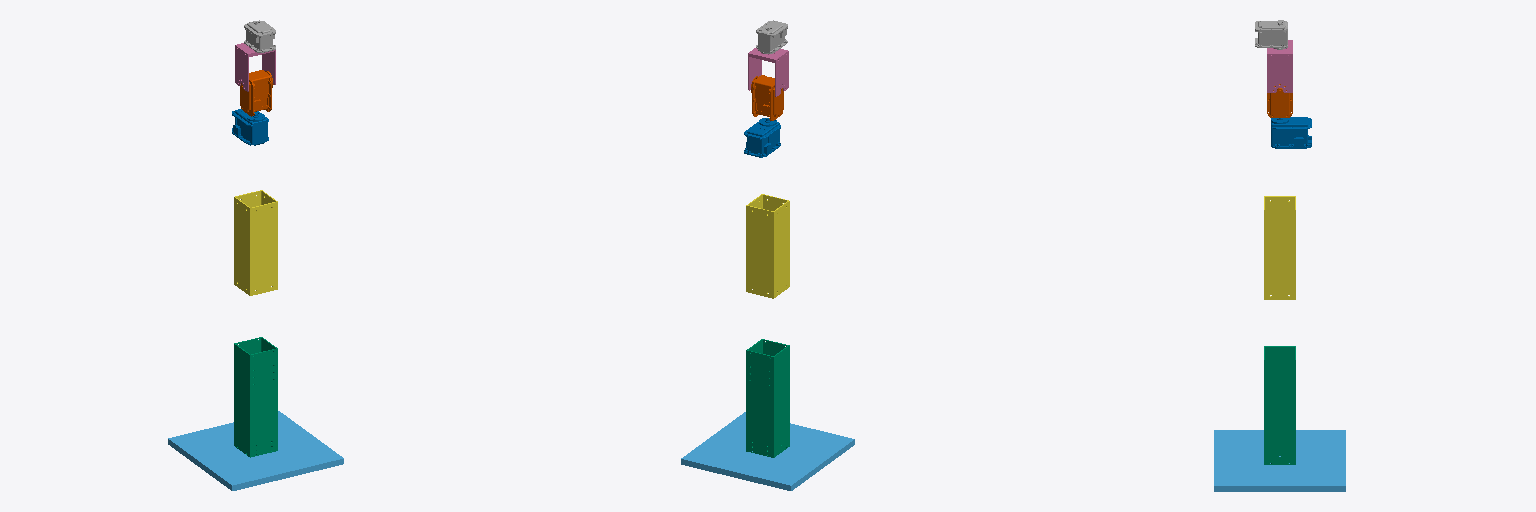
robot.urdf — proarm:

<robot name="proarm">

  <link name="world"/>
    <joint name="fixed" type="fixed">
    <parent link="world"/>
    <child link="base_link"/>
    <origin  xyz="0 0.0 0.00"  rpy="0.0 0 0" />
  </joint>

  <link name="base_link">
  <inertial>
      <origin  xyz="0.0 0.0 0.0"  rpy="0 0 0" />
      <mass  value="0.5" />
      <inertia ixx="0.01666" ixy="0.0" ixz="0.00"  iyy="0.01666"  iyz="0.0" izz="0.01666" />
    </inertial>
    <visual>
      <origin rpy="0 0 0" xyz="0 0 0.0"/>
      <geometry>
        <box size="0.2 0.2 0.01"/>
      </geometry>
      <material name="clear_gray"/>
    </visual>
    <collision>
      <origin rpy="0 0 0" xyz="0 0 0.0"/>
      <geometry>
        <box size="0.2 0.2 .01"/>
      </geometry>
    </collision>
  </link>
  
 

   <joint name="joint1" type="revolute">
    <parent link="base_link"/>
    <child link="link_pilar1"/>
     <origin  xyz="0.0 0.0 0.18"  rpy="0.0 3.14159 0.0" />
    <axis  xyz="0 0 1" />
    <limit  lower="-3.15159" upper="3.14159" effort="2.0"  velocity="2.57" />
  </joint>

  
 <link  name="link_pilar1">
   
    <visual>
      <origin  xyz="0.0 0.0 0.0"  rpy="0 0 0" />
      <geometry>     
        <mesh filename="package://ed_pmov/meshes/dokku_arm/50x50x180_scaled.stl" />
      </geometry>   
       <material name="white"/>
    </visual>
  
  </link>

   <joint name="joint2" type="revolute">
    <parent link="link_pilar1"/>
    <child link="link_pilar2"/>
     <origin  xyz="-0.0 -0.0 -0.036"  rpy="3.14159 0.0 3.14159" />
     <axis  xyz="0 1 0" />
     <limit  lower="-2.32" upper="2.32" effort="10"  velocity="4.57" />
  </joint>



 <link  name="link_pilar2">
   
    <visual>
      <origin  xyz=" 0.0 0.0 0.0"  rpy="0.0 0.0 0.0" />
      <geometry>
        <mesh filename="package://ed_pmov/meshes/dokku_arm/50x50x150_scaled.stl" />
      </geometry>
       <material name="black"/>
    </visual>

  </link>





   <joint name="joint3" type="revolute">
    <parent link="link_pilar2"/>
    <child link="link_motor_mx642"/>
     <origin  xyz="0.0 0.0 0.247"  rpy="0.0 0.0  3.14159" />
     <axis  xyz="0 1 0" />
    <limit  lower="-2.32" upper="2.32" effort="10"  velocity="4.57" />
  </joint> 



 <link  name="link_motor_mx642">
 
    <visual>
      <origin  xyz="0 0 0.0"  rpy=" 0 0 0" />
      <geometry>
        <mesh filename="package://ed_pmov/meshes/dokku_arm/mx641_scaled.stl"/>
      </geometry>
       <material name="black"/>
    </visual>

  </link>

   <joint name="joint4" type="continuous">
    <parent link="link_motor_mx642"/>
    <child link="link_motor_mx281"/>
     <origin  xyz="0.00 0.0 0.167"  rpy="1.57079 0.0 -1.57079 " />
     <axis  xyz="0 1 0" />
    <limit  lower="-3.14159" upper="3.1459" effort="10"  velocity="4.57" />
  </joint>

 <link  name="link_motor_mx281">
 
    <visual>
      <origin  xyz="0 0 0.0"  rpy="0 0 0" />
      <geometry>
        <mesh filename="package://ed_pmov/meshes/dokku_arm/mx64_scaled.stl"/>
      </geometry>
       <material name="black"/>
    </visual>

  </link>

 <joint name="joint5" type="revolute">
    <parent link="link_motor_mx281"/>
    <child link="link_bracket_f5l"/>
     <origin  xyz="0.0 0.0 0.0"  rpy="1.570796 1.57079 3.14159" />
     <axis  xyz="-1 0 0" />
    <limit  lower="-1.82561" upper="1.82561" effort="10.0"  velocity="3.57" />
  </joint>

 <link  name="link_bracket_f5l">
 
    <visual>
      <origin  xyz="-0.0 -0.0 -0.0"  rpy="0.0 0 0" />
      <geometry>
        <mesh filename="package://ed_pmov/meshes/dokku_arm/fr05l_scaled_translated.stl"/>
      </geometry>
       <material name="black"/>
    </visual>

  </link>

   <joint name="joint6" type="revolute">
    <parent link="link_bracket_f5l"/>
    <child link="link_motor_mx282"/>
     <origin  xyz="0.0 0.0 0.084"  rpy="-3.1459 0 0" />
     <axis  xyz="0 0 1" />
    <limit  lower="-3.14159" upper="3.1459" effort="10"  velocity="5.57" />
  </joint>

 <link  name="link_motor_mx282">
  
    <visual>
      <origin  xyz="0.00 0.0 0.0"  rpy="0 0 0" />
      <geometry>
        <mesh filename="package://ed_pmov/meshes/dokku_arm/mx28_scaled.stl" />
      </geometry>
       <material name="black"/>
    </visual>
   
  </link>
 
</robot>

--- Facts derived from the render (not from the file) ---
The picture shows the robot from 3 angles, left to right: view 1: azimuth 30°, elevation 25°; view 2: azimuth 150°, elevation 25°; view 3: azimuth 270°, elevation 25°; orthographic projection.
Robot: proarm — 8 links, 7 joints (5 revolute, 1 continuous, 1 fixed); root link world; default pose: all joints at 0.
Links seen in each view (by area): view 1: base_link, link_pilar1, link_pilar2, link_motor_mx281, link_motor_mx642, link_bracket_f5l, link_motor_mx282; view 2: base_link, link_pilar1, link_pilar2, link_motor_mx281, link_motor_mx642, link_bracket_f5l, link_motor_mx282; view 3: base_link, link_pilar1, link_pilar2, link_motor_mx642, link_bracket_f5l, link_motor_mx282, link_motor_mx281.
Link boxes in pixels (left/top/right/bottom): base_link: left=168, top=411, right=343, bottom=490; link_pilar1: left=234, top=337, right=277, bottom=457; link_pilar2: left=234, top=190, right=277, bottom=295; link_motor_mx281: left=240, top=70, right=273, bottom=116; link_motor_mx642: left=232, top=109, right=268, bottom=145; link_bracket_f5l: left=235, top=43, right=275, bottom=91; link_motor_mx282: left=244, top=20, right=275, bottom=52; base_link: left=681, top=412, right=854, bottom=490; link_pilar1: left=746, top=339, right=789, bottom=457; link_pilar2: left=746, top=194, right=789, bottom=298; link_motor_mx281: left=751, top=75, right=783, bottom=120; link_motor_mx642: left=744, top=118, right=780, bottom=157; link_bracket_f5l: left=748, top=48, right=788, bottom=96; link_motor_mx282: left=756, top=20, right=787, bottom=53; base_link: left=1214, top=430, right=1345, bottom=491; link_pilar1: left=1264, top=346, right=1295, bottom=464; link_pilar2: left=1264, top=196, right=1295, bottom=299; link_motor_mx642: left=1271, top=117, right=1311, bottom=148; link_bracket_f5l: left=1267, top=40, right=1292, bottom=92; link_motor_mx282: left=1255, top=20, right=1287, bottom=49; link_motor_mx281: left=1267, top=84, right=1292, bottom=117.
Size in the robot's own frame: 0.2 by 0.2 by 0.7383 metres.
6 mesh visuals loaded from 6 distinct referenced files (6 binary STL).
